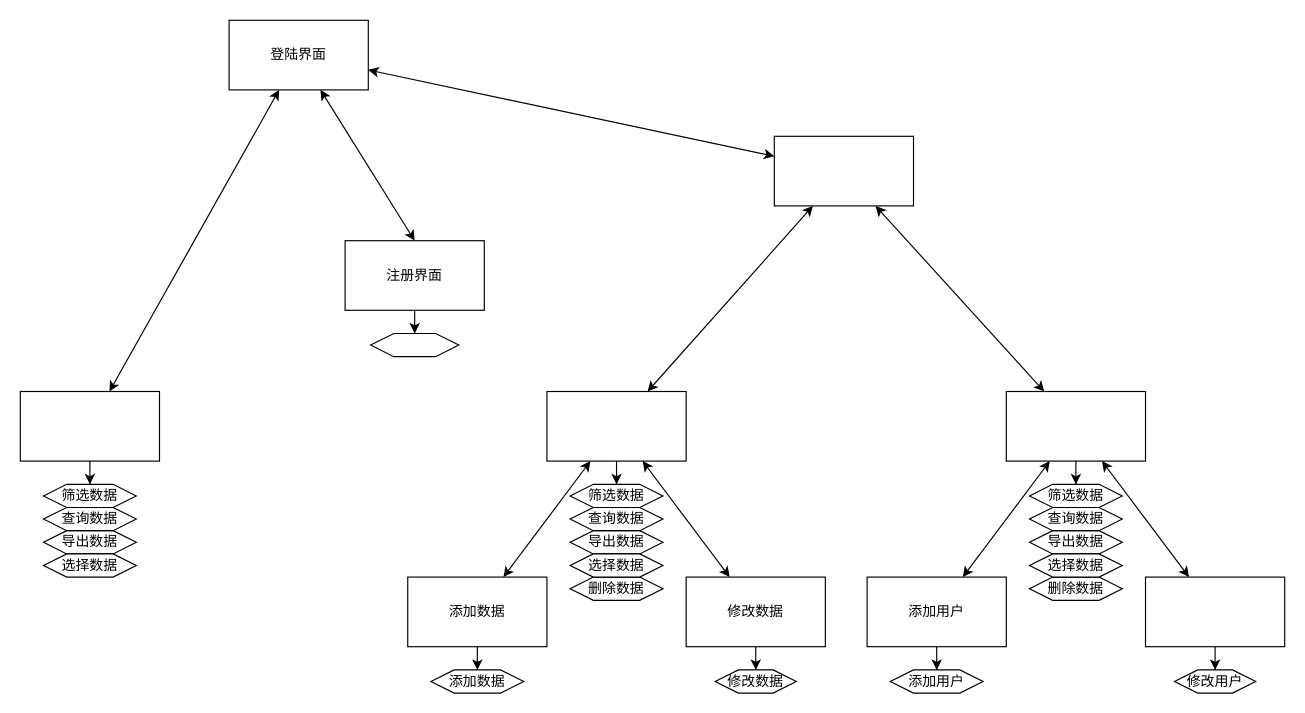
Image size: 1305x713. Some labels were removed from this diagram. The centre of each missing label's shape, as x and y in pixels:
修改用户: the point at 1214,611
数据管理: the point at 616,425
注册: the point at 414,344
用户界面: the point at 89,425
用户管理: the point at 1075,425
管理员界面: the point at 843,170
